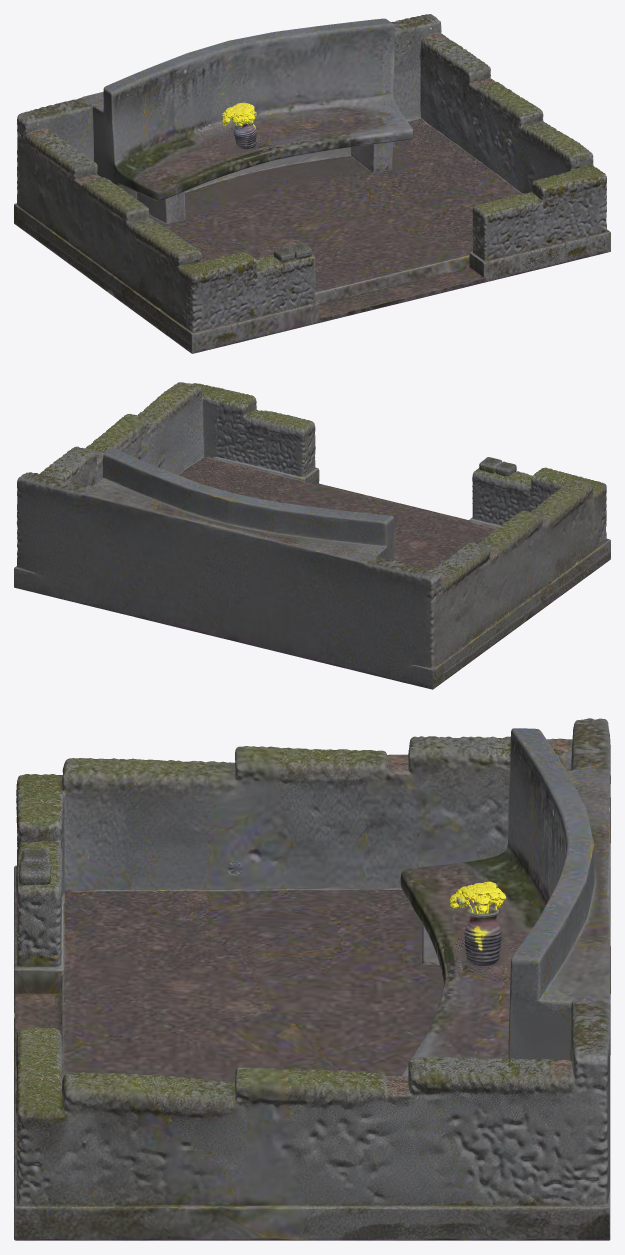
The model's file is milica-stojadinovic-srpkinja.glb.
3 views of the same model, one above another, from view 1: azimuth 30°, elevation 25°; view 2: azimuth 150°, elevation 25°; view 3: azimuth 270°, elevation 25° (orthographic). The views are drawn at different scales.
Bounding box in the file's own units: 1.9 × 0.5916 × 1.4.
1 material, 1 textured.
